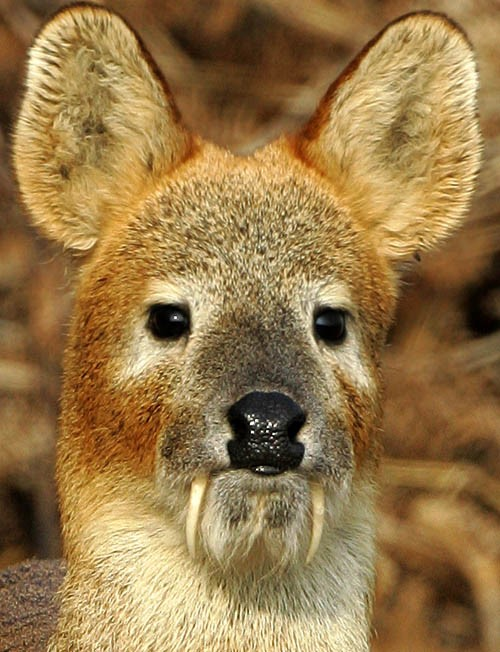elk: (21, 5, 477, 644)
